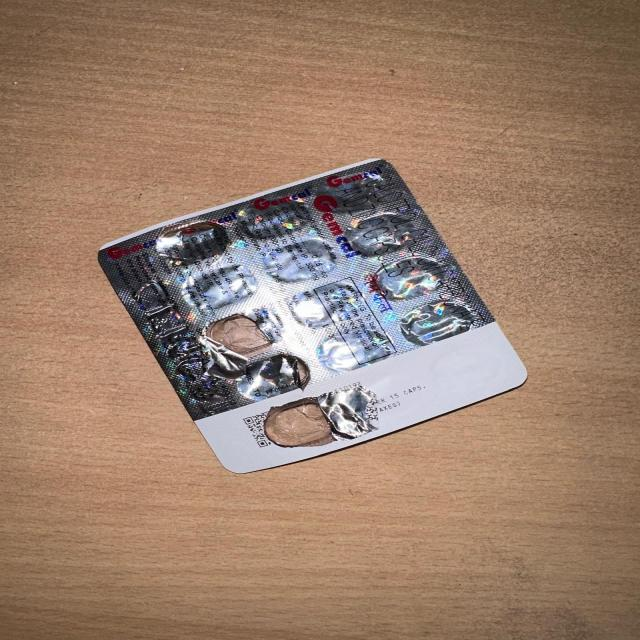medicine: (84, 148, 547, 488)
